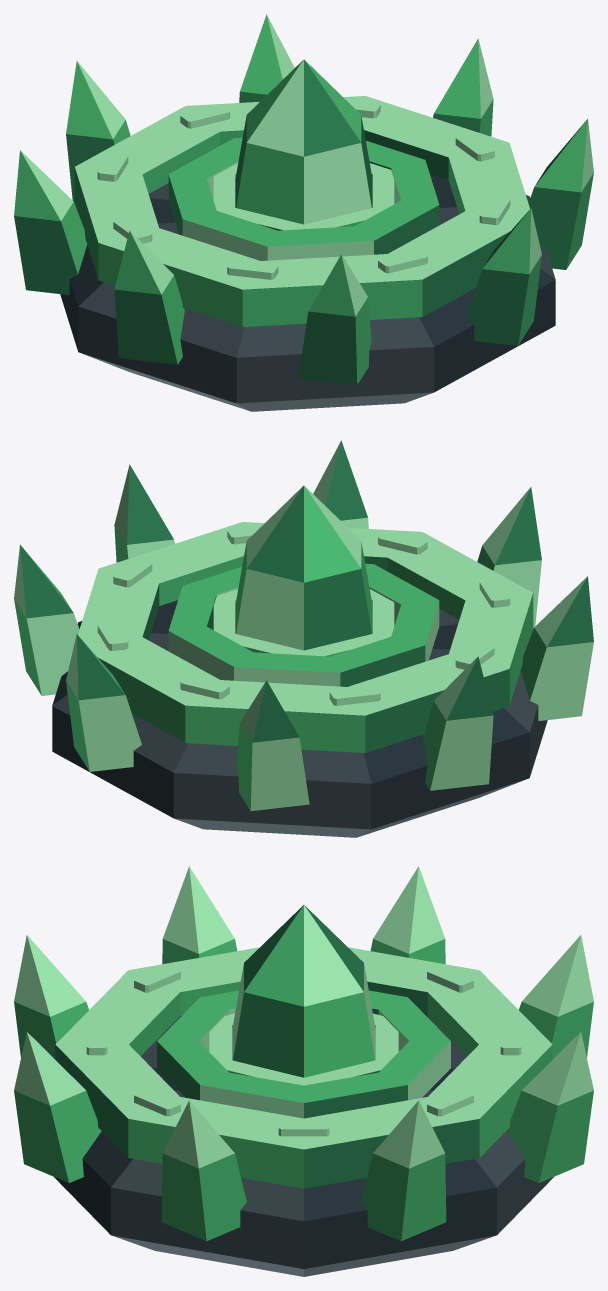
File: emerald_machine.fbx
3 views of the same model, one above another, from view 1: azimuth 30°, elevation 25°; view 2: azimuth 150°, elevation 25°; view 3: azimuth 270°, elevation 25° (orthographic). The views are drawn at different scales.
Parts seen in each view (by area): view 1: emerald_machine_body, emerald_machine_core; view 2: emerald_machine_body, emerald_machine_core; view 3: emerald_machine_body, emerald_machine_core.
Boxes of the visible parts, x1=… form: emerald_machine_body: x1=14, y1=14, x2=593, y2=411; emerald_machine_core: x1=213, y1=59, x2=394, y2=230; emerald_machine_body: x1=14, y1=440, x2=593, y2=837; emerald_machine_core: x1=213, y1=485, x2=394, y2=656; emerald_machine_body: x1=14, y1=866, x2=593, y2=1276; emerald_machine_core: x1=209, y1=905, x2=398, y2=1085.
Bounding box in the file's own units: 3.08 × 1.66 × 3.08.
Materials: 1 (1 with a texture image).
